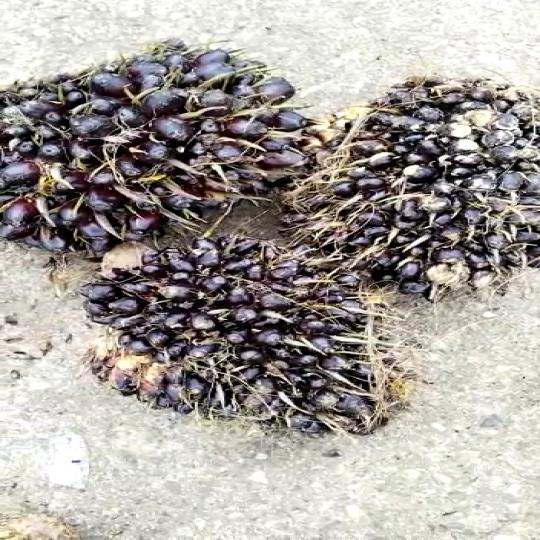mentah: (66, 225, 443, 436), (0, 34, 328, 244), (287, 67, 540, 306)
